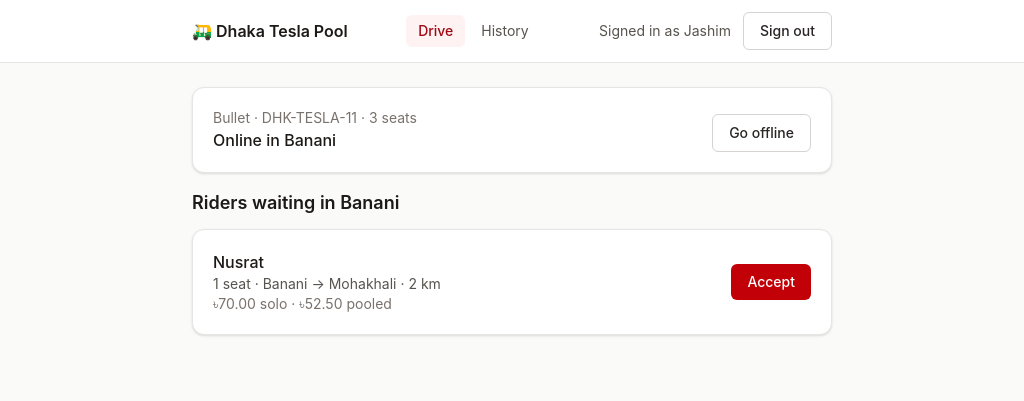
Test: Jashim's driver screen › explains when another Tesla got the rider first, and refreshes the list
The width and height of the screenshot is (1024, 401).
Click the button with aria-label "Accept Nusrat" at [771, 282], box [731, 264, 811, 300]
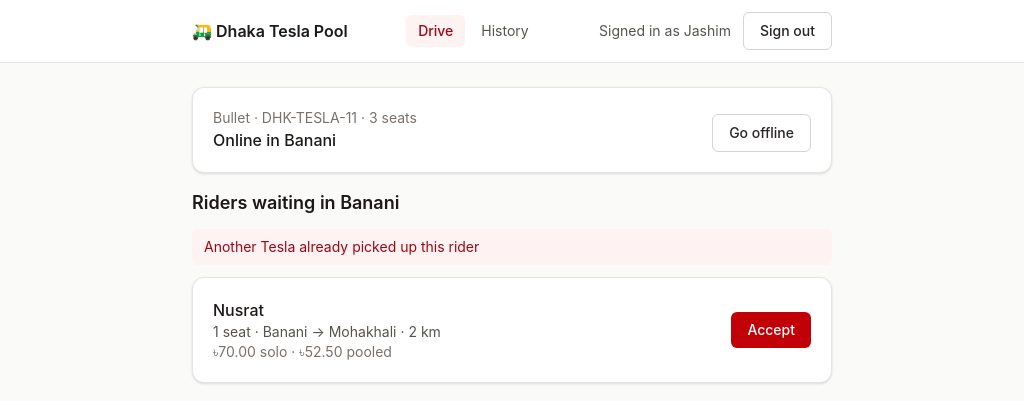
Now the message reads "Another Tesla already picked up this rider", box [204, 238, 479, 255]
